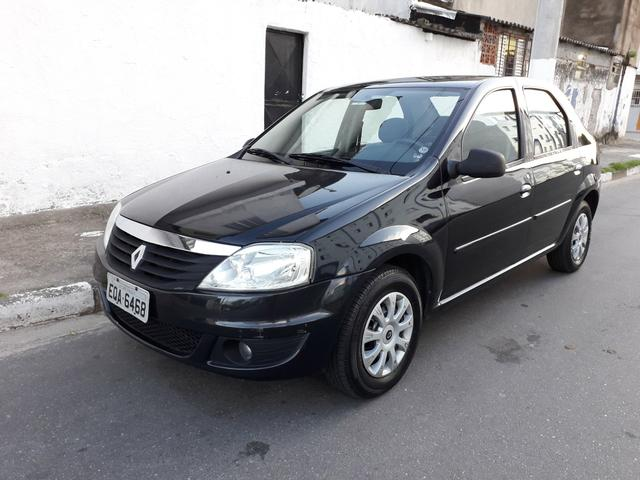Carro: (91, 74, 601, 400)
